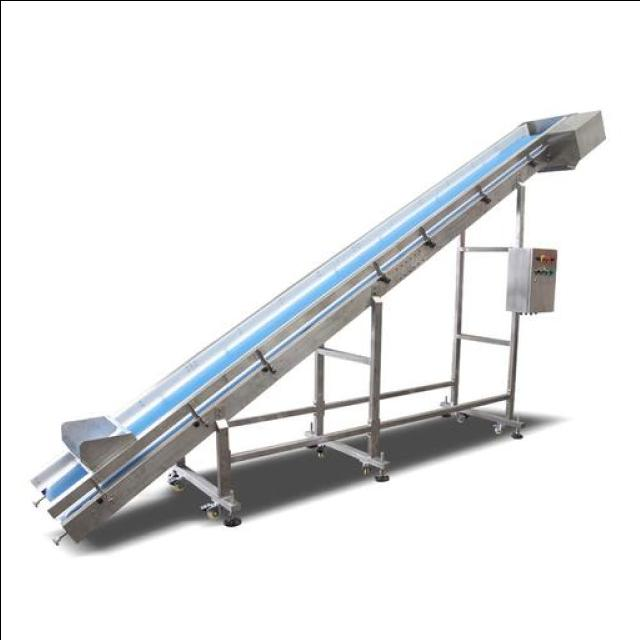conveyor: (33, 121, 562, 513)
